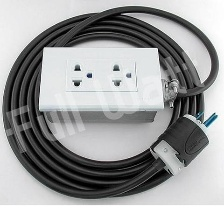three_eye_plug: (28, 33, 171, 133)
